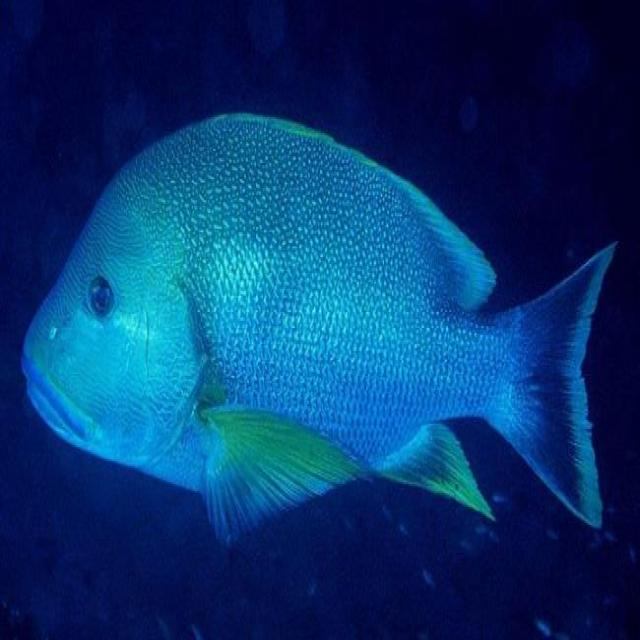ikan: (20, 108, 619, 546)
